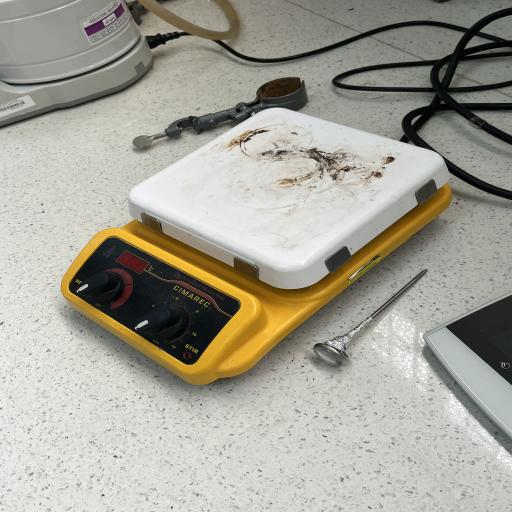Plancha_Agitacion_Cimarec: (48, 101, 463, 396)
